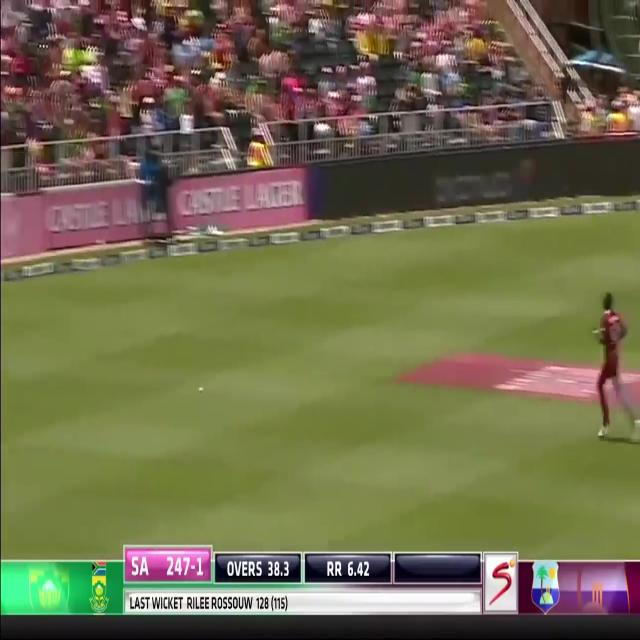Ball: (583, 286, 637, 441)
